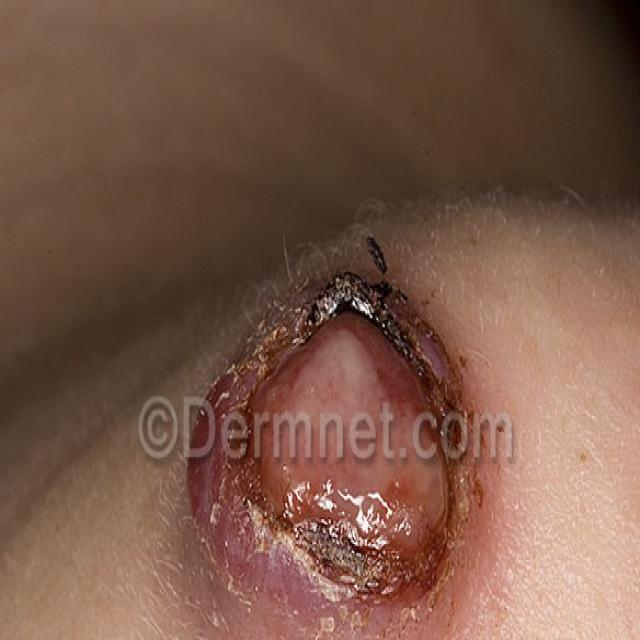Vascular Tumors: (150, 243, 514, 640)
